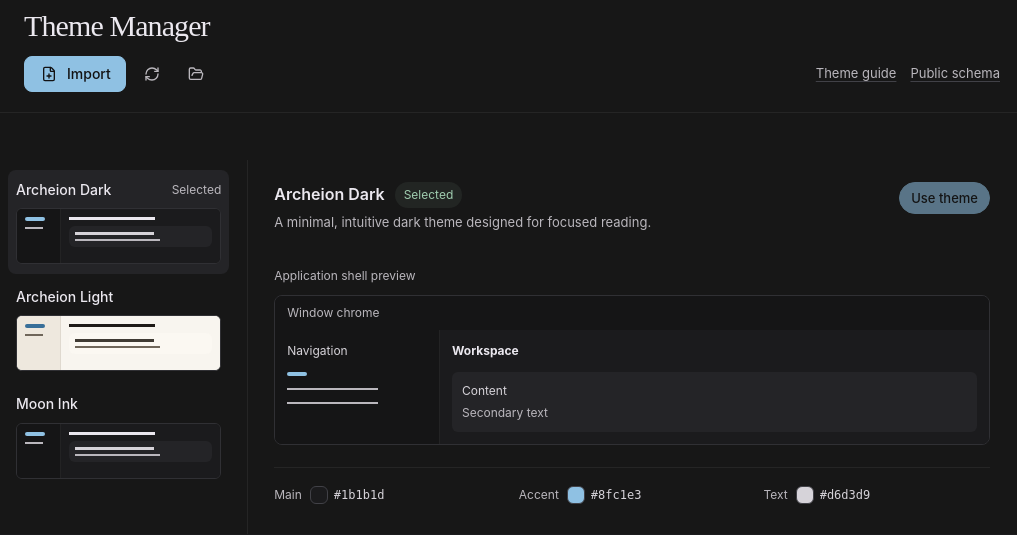
Test: ThemeManagerSurface preview ownership › refreshes the selected shell from reloaded packages and removes it when the package becomes invalid
Click the button "Moon Ink": (119, 437) [8, 384, 229, 489]
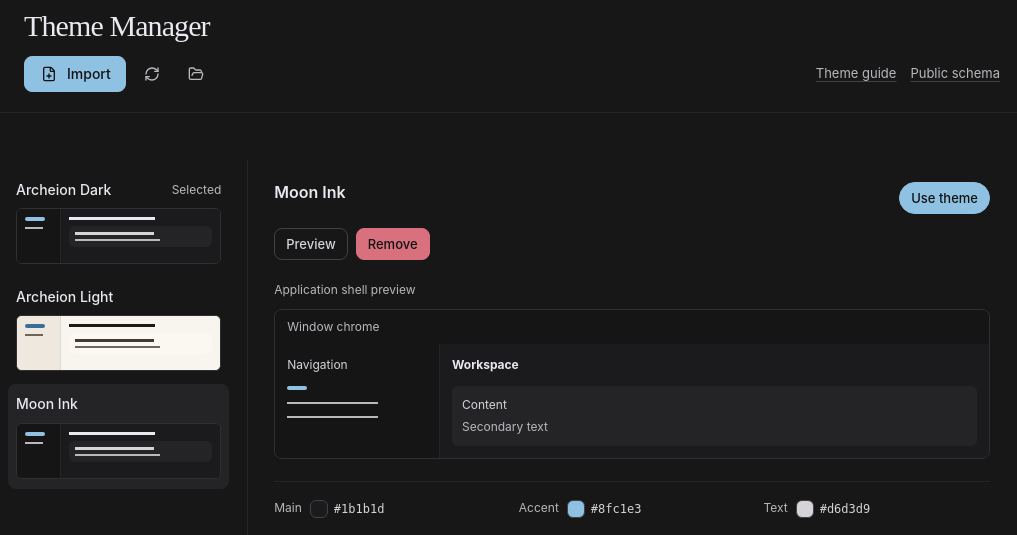
Click the button named "Reload themes": (152, 74) [134, 56, 170, 92]
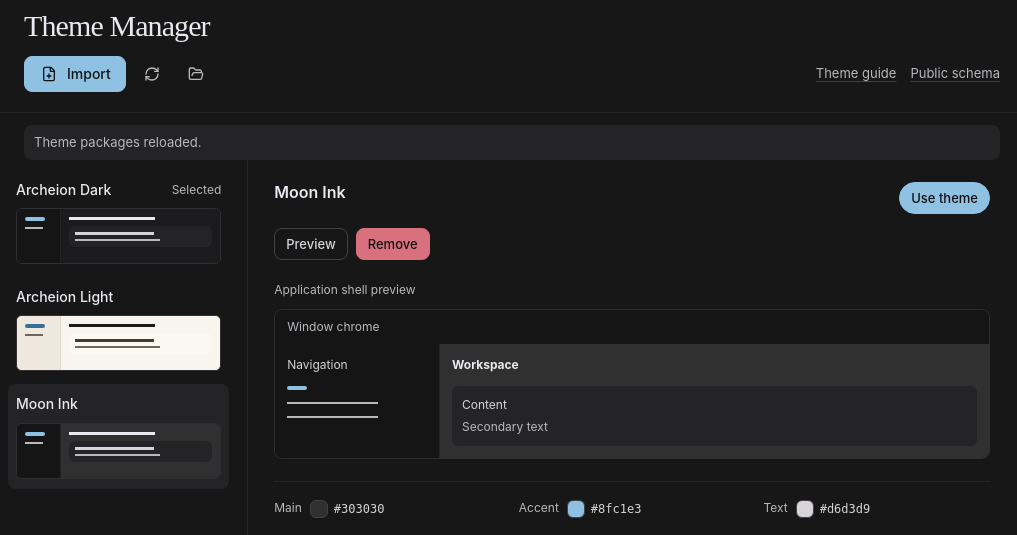
Expected: the picture with class "theme-shell-preview__graphic" that starts with "Window chrome" is shown, [274, 309, 990, 459]
Expected: the text "Application shell preview" is shown, [274, 282, 416, 297]
Click the button named "Reload themes": (152, 74) [134, 56, 170, 92]
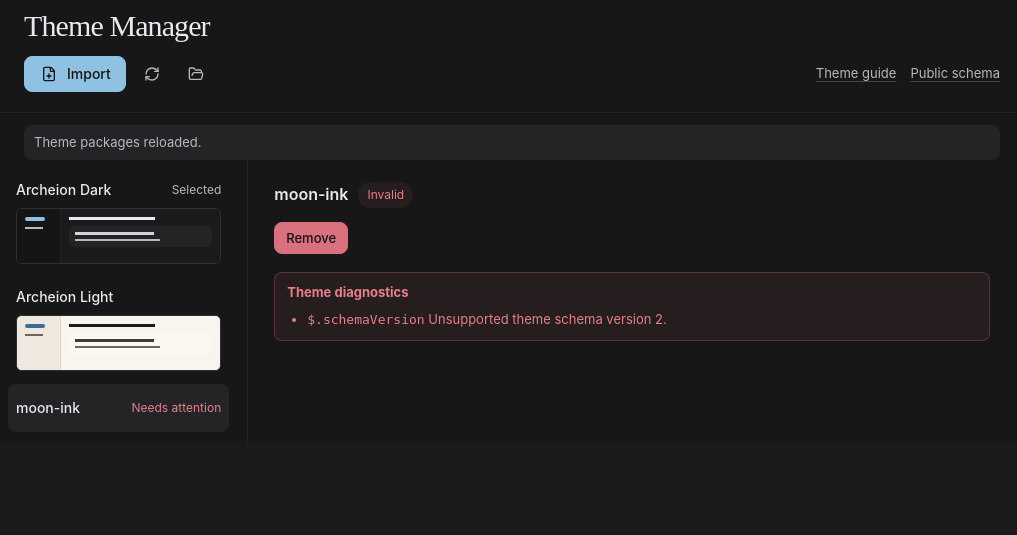
Expected: the element with class "theme-shell-preview" is gone
Expected: the message "Theme diagnostics $.schemaVersion Unsupported theme schema version 2." is shown, [274, 272, 990, 340]
